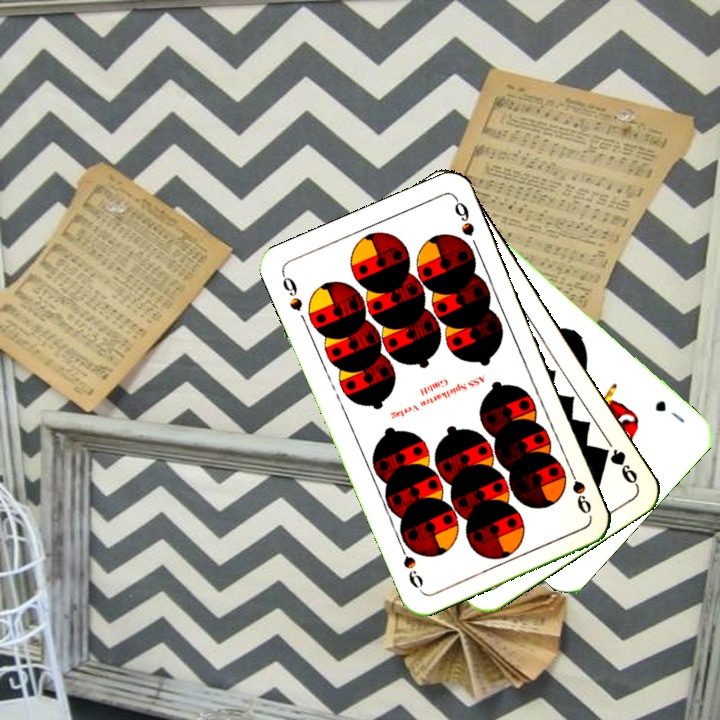G9: (598, 444, 640, 488)
GU: (651, 396, 688, 426)
S9: (564, 461, 594, 517), (277, 269, 305, 314)
